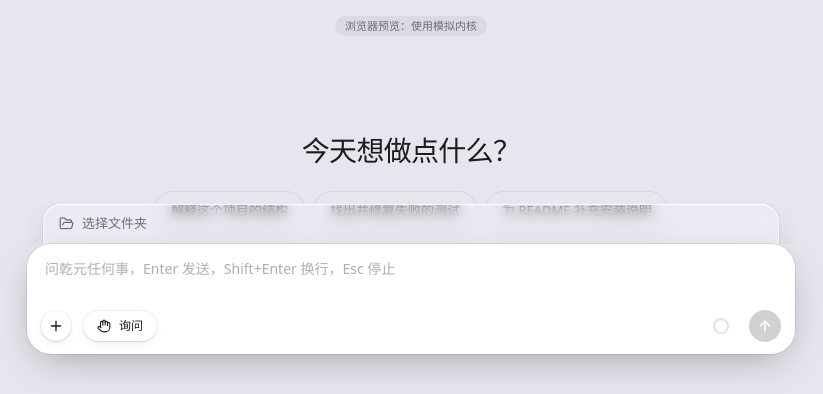
Test case: 对话区（mock 事件流） › 未选择工作区时输入框上方显示选择文件夹；选好后收起并在工具栏显示工作区
Press Enter in the button "选择文件夹", box [59, 214, 147, 234]
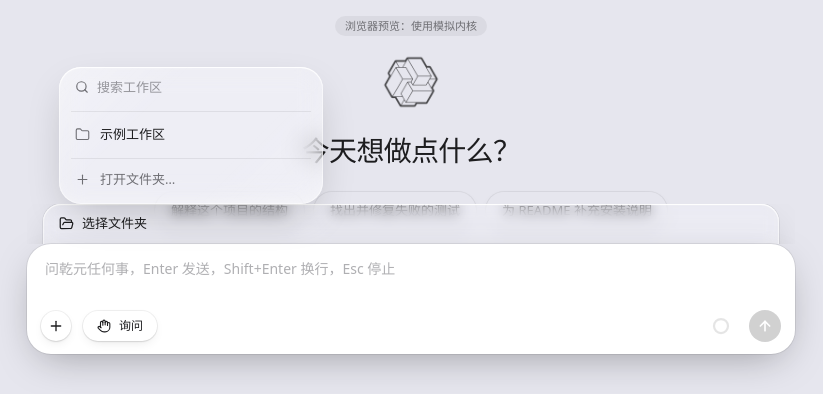
Click the menu item "示例工作区": (120, 134) [75, 125, 165, 143]
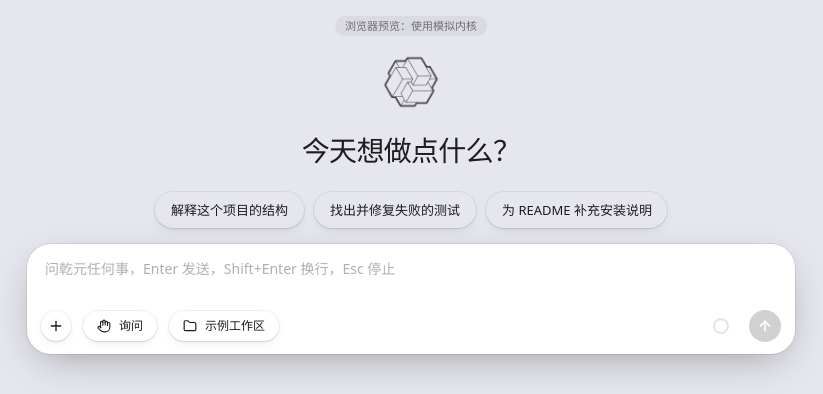
expect the text "示例工作区" is shown: met, box [205, 320, 265, 332]
expect the button "示例工作区" is shown: met, box [169, 311, 279, 341]
expect the button "选择文件夹" is gone: met
